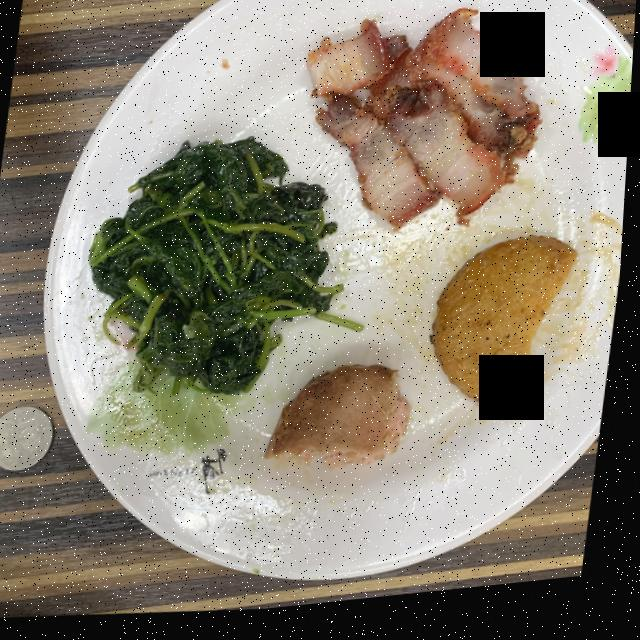Spam: (270, 373, 414, 476)
coin: (0, 408, 57, 471)
fish cake: (435, 247, 580, 418)
red grilled pork: (307, 18, 541, 238)
sweet potato leaves: (91, 143, 345, 400)
